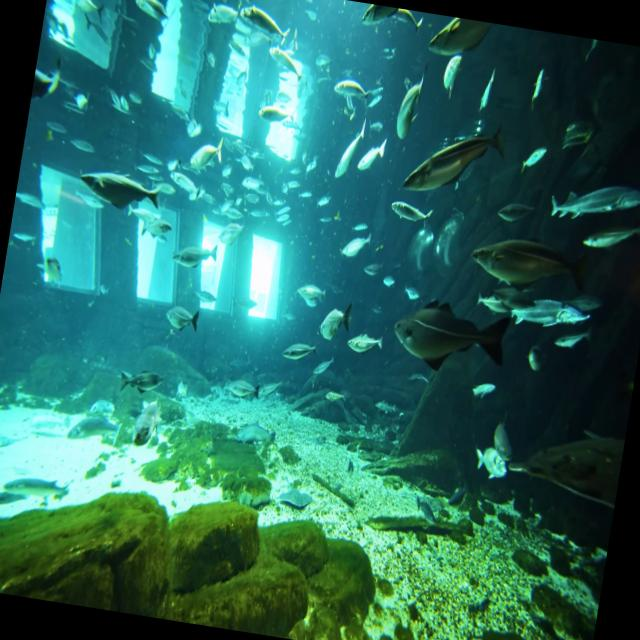fish: (384, 284, 514, 382), (396, 104, 514, 208), (544, 163, 640, 237), (74, 162, 168, 224), (384, 61, 436, 158), (318, 110, 373, 194), (512, 282, 592, 334), (103, 358, 163, 421), (160, 228, 220, 286), (425, 14, 490, 64), (152, 288, 212, 342), (328, 63, 383, 115), (185, 123, 234, 178), (232, 0, 294, 42), (558, 108, 601, 168), (260, 40, 306, 96), (312, 295, 358, 350), (472, 61, 504, 140), (384, 184, 436, 232), (250, 91, 300, 140), (341, 319, 388, 371), (467, 438, 512, 488), (288, 270, 332, 321), (356, 2, 418, 38), (512, 134, 554, 184), (32, 52, 72, 104), (196, 0, 245, 41), (276, 334, 325, 374), (520, 58, 552, 116), (126, 0, 177, 27), (68, 0, 110, 22)
